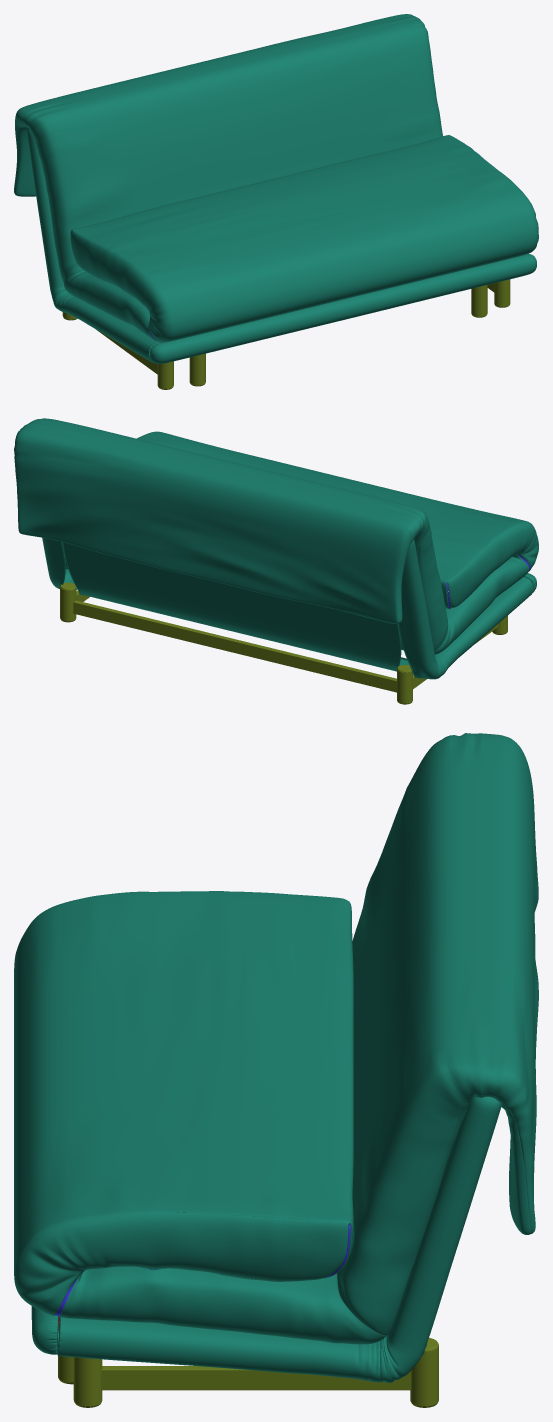
File: SM_Schlafsofa_geschossen.fbx
The picture shows the model from 3 angles, top to bottom: view 1: azimuth 30°, elevation 25°; view 2: azimuth 150°, elevation 25°; view 3: azimuth 270°, elevation 25°; orthographic projection. The views are drawn at different scales.
Visible parts, largest first — view 1: SM_Schlafsofa_geschossen; view 2: SM_Schlafsofa_geschossen; view 3: SM_Schlafsofa_geschossen.
Boxes of the visible parts, bbox=[...] form: SM_Schlafsofa_geschossen: bbox=[14, 14, 538, 389]; SM_Schlafsofa_geschossen: bbox=[14, 418, 538, 704]; SM_Schlafsofa_geschossen: bbox=[14, 733, 538, 1407].
Bounding box in the file's own units: 171 × 83.1 × 110.
